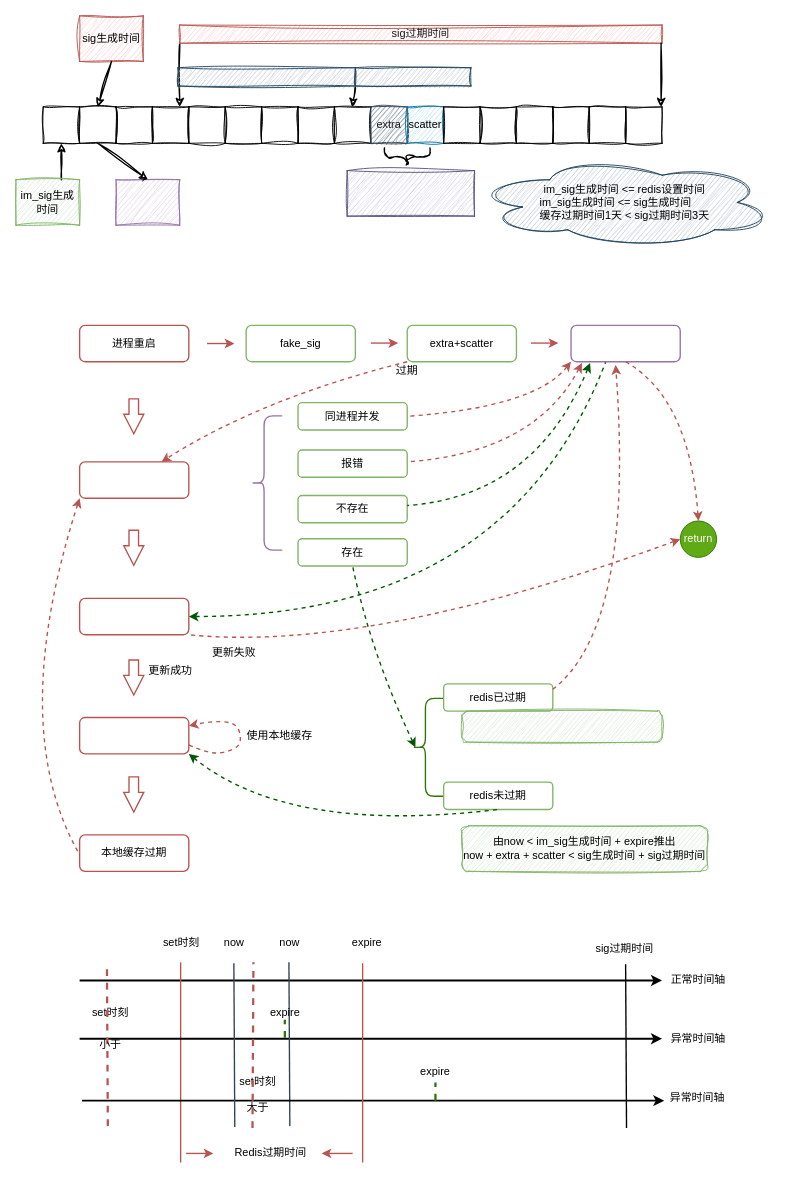
Some shapes in this 791 by 1184 pixel diagram are drawn without their labels. The centre of each missing label's shape, as x and y in pixels:
"extra + scatter时间" goes at point 410,193.
"redis和本地缓存过期时间" goes at point 266,76.
"Redis设置时间" goes at point 147,202.
"更新Redis" goes at point 134,616.
"更新本地缓存" goes at point 134,735.
"本地缓存extra+scatter" goes at point 412,76.
"查Redis" goes at point 134,479.
"生成sig" goes at point 625,343.
"防止某台机器时钟异常，但写了缓存" goes at point 561,726.
